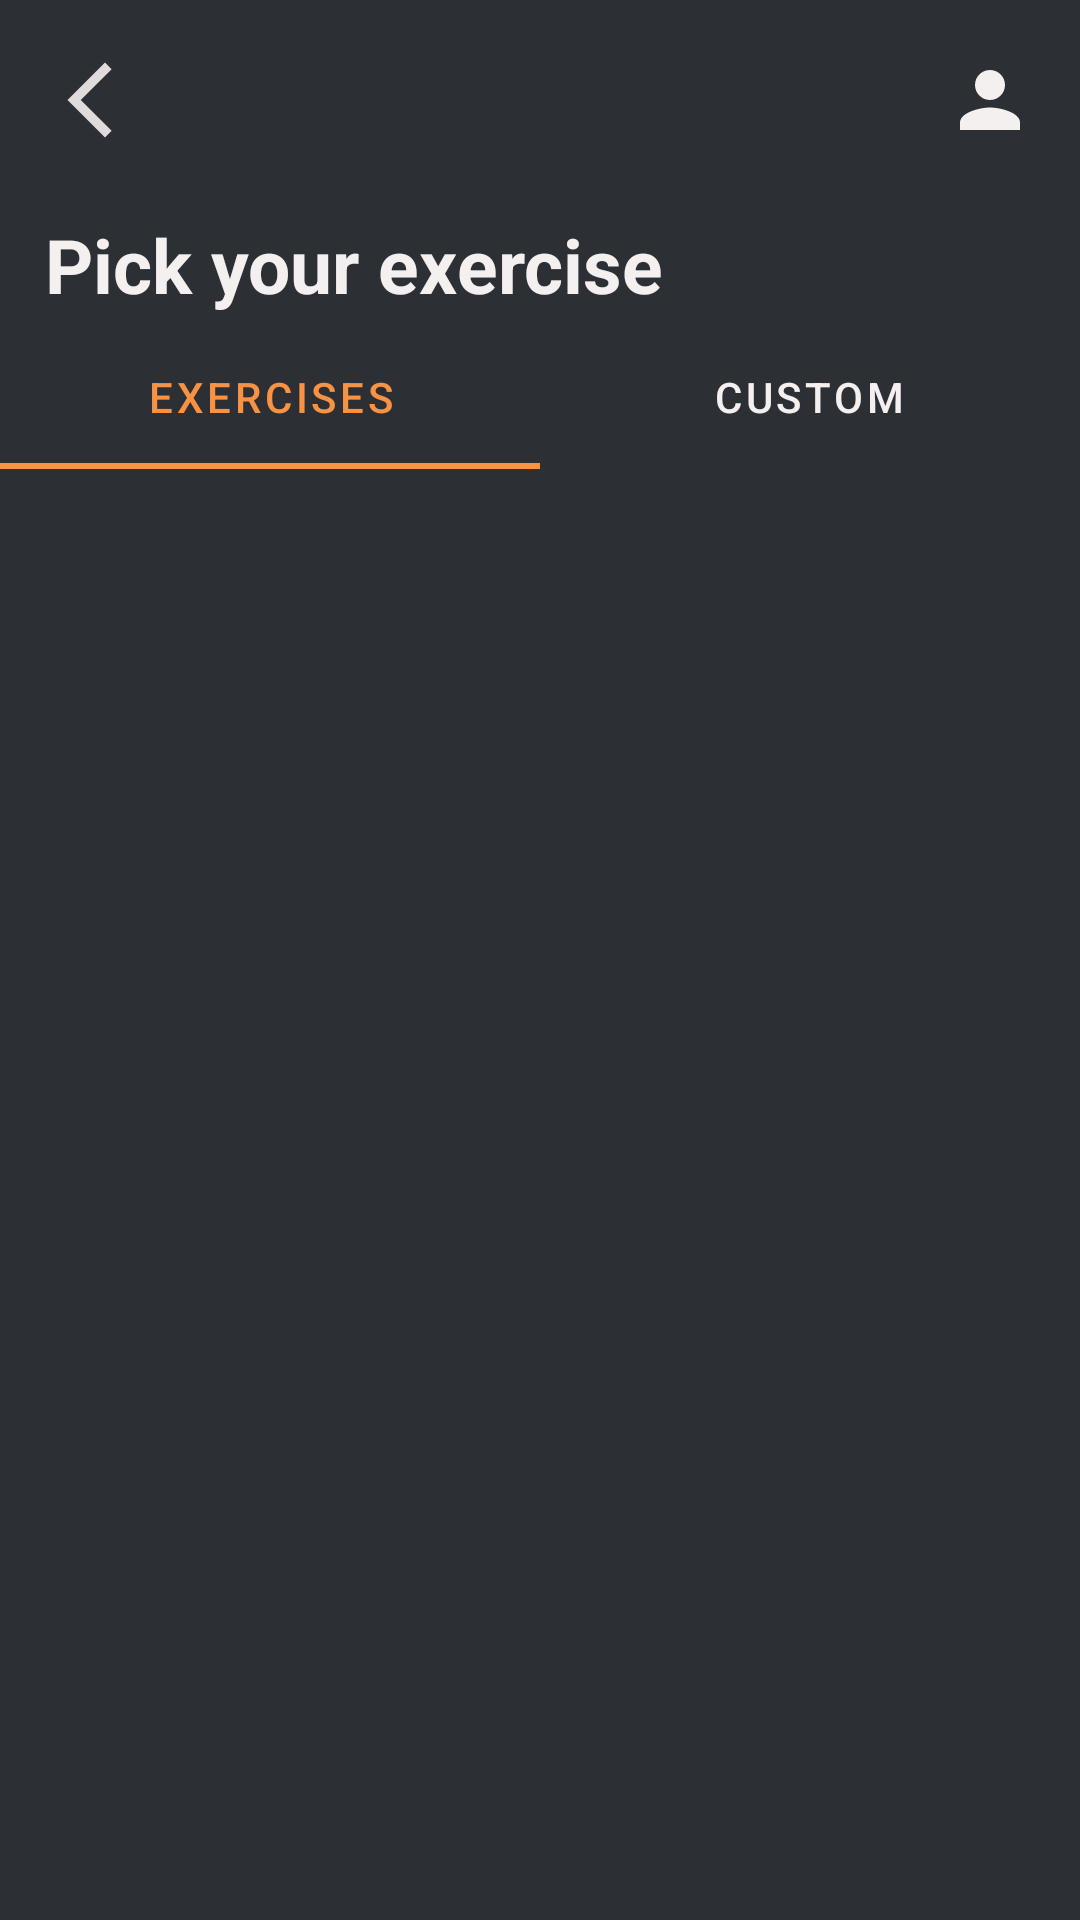

Screen size 1080w x 1920h. Icon name, then its box in pixels as bbox(x1, y1, x2, y2):
arrow back: bbox(68, 63, 112, 137)
person: bbox(960, 70, 1020, 130)
